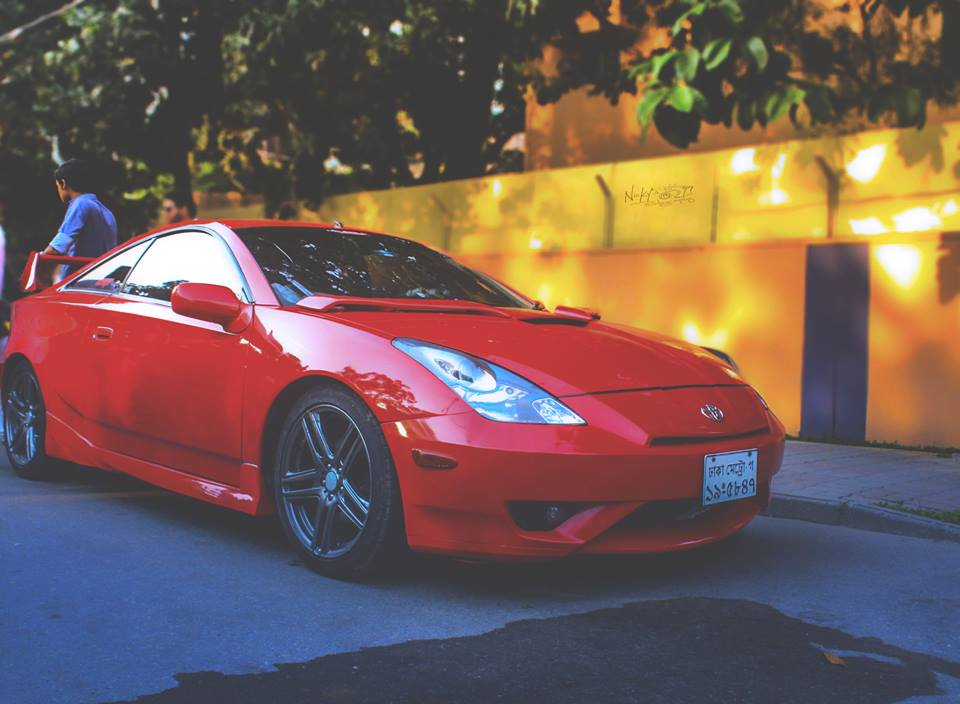registration_plate: (702, 447, 759, 507)
